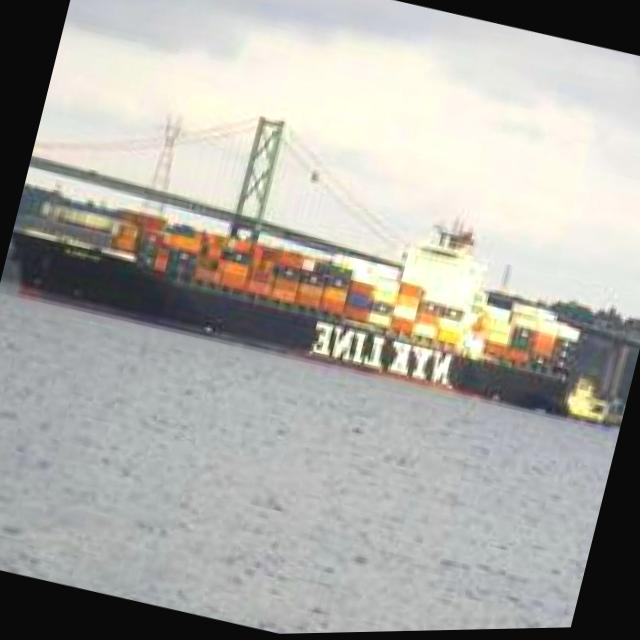ship2: (11, 198, 580, 419)
